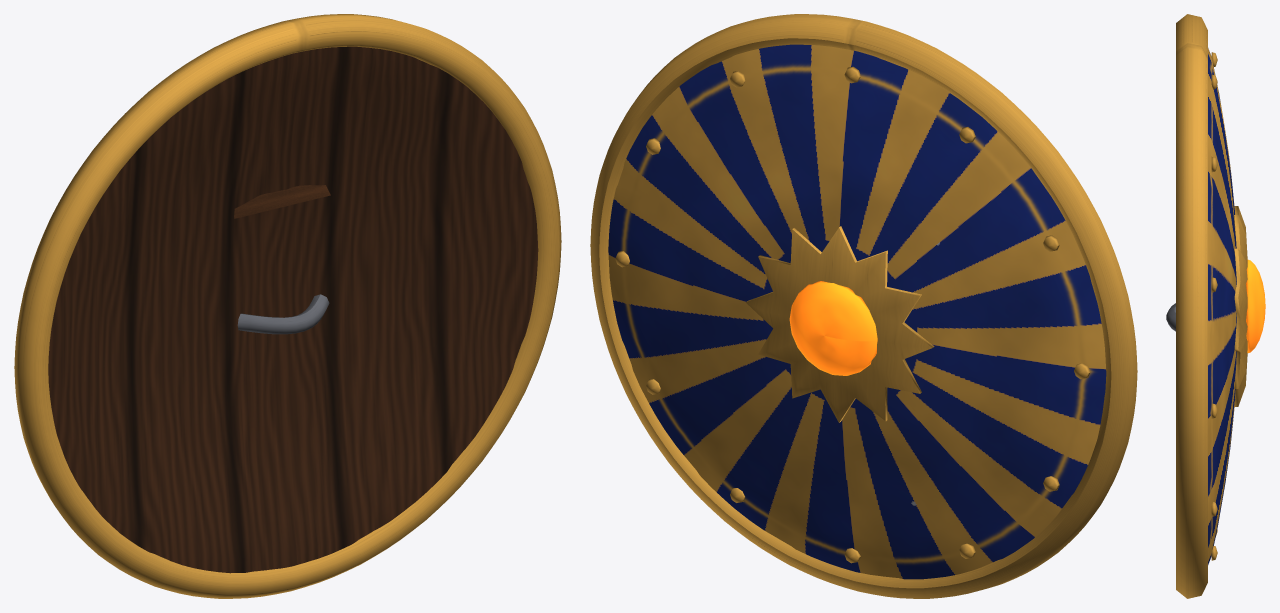
Rendered from SunburstShield.glb.
The picture shows the model from 3 angles, left to right: view 1: azimuth 30°, elevation 25°; view 2: azimuth 150°, elevation 25°; view 3: azimuth 270°, elevation 25°; orthographic projection. The views are drawn at different scales.
Visible parts, largest first — view 1: SunburstShield; view 2: SunburstShield; view 3: SunburstShield.
Boxes of the visible parts, <box> form: SunburstShield: <box>14,14,561,598</box>; SunburstShield: <box>590,14,1137,598</box>; SunburstShield: <box>1166,14,1265,598</box>.
Bounding box in the file's own units: 2.44 × 2.44 × 0.4132.
Materials: 1 (1 with a texture image).
